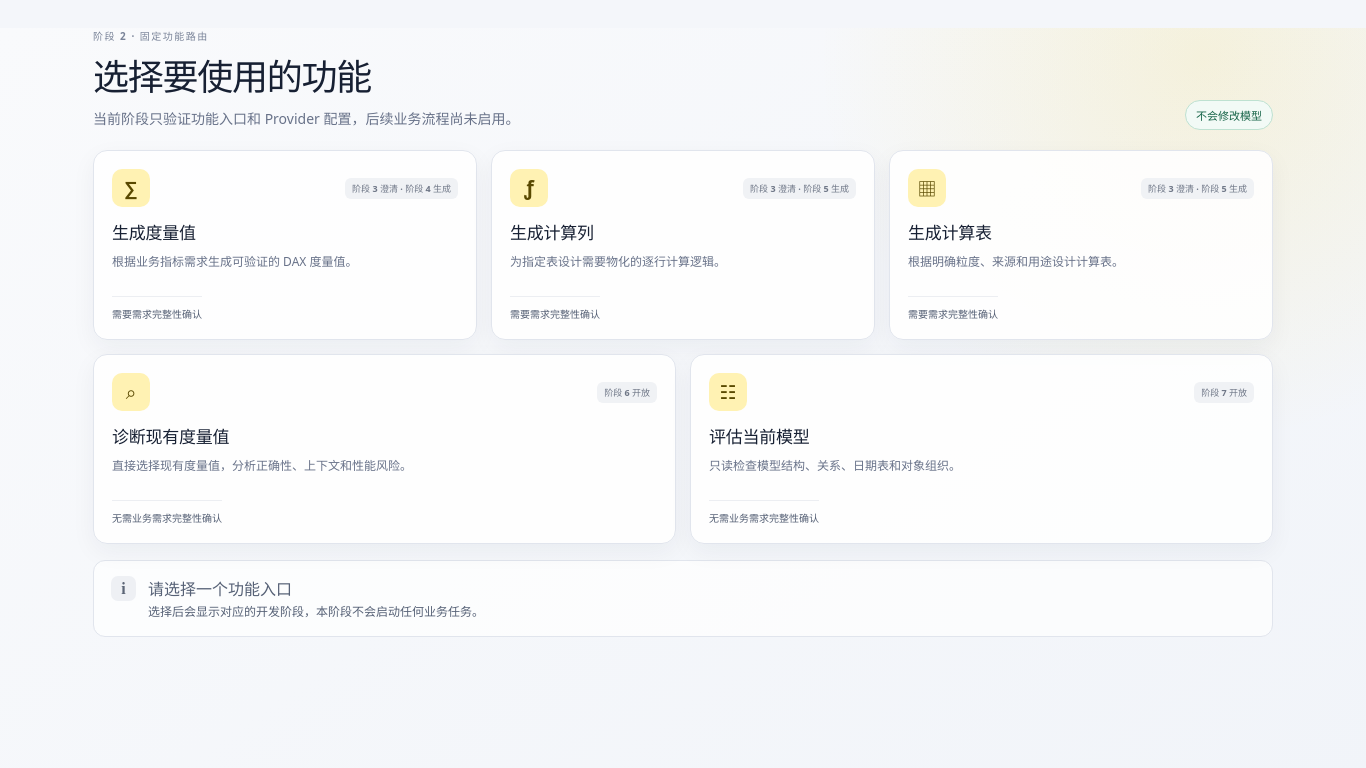
Test: FeatureHome 阶段 2 固定功能首页 › 选择“生成度量值”时仅显示对应阶段边界
The width and height of the screenshot is (1366, 768).
Click the button "∑ 阶段 3 澄清 · 阶段 4 生成 生成度量值 根据业务指标需求生成可验证的 DAX 度量值。 需要需求完整性确认" at (131, 188), box [93,150,477,340]
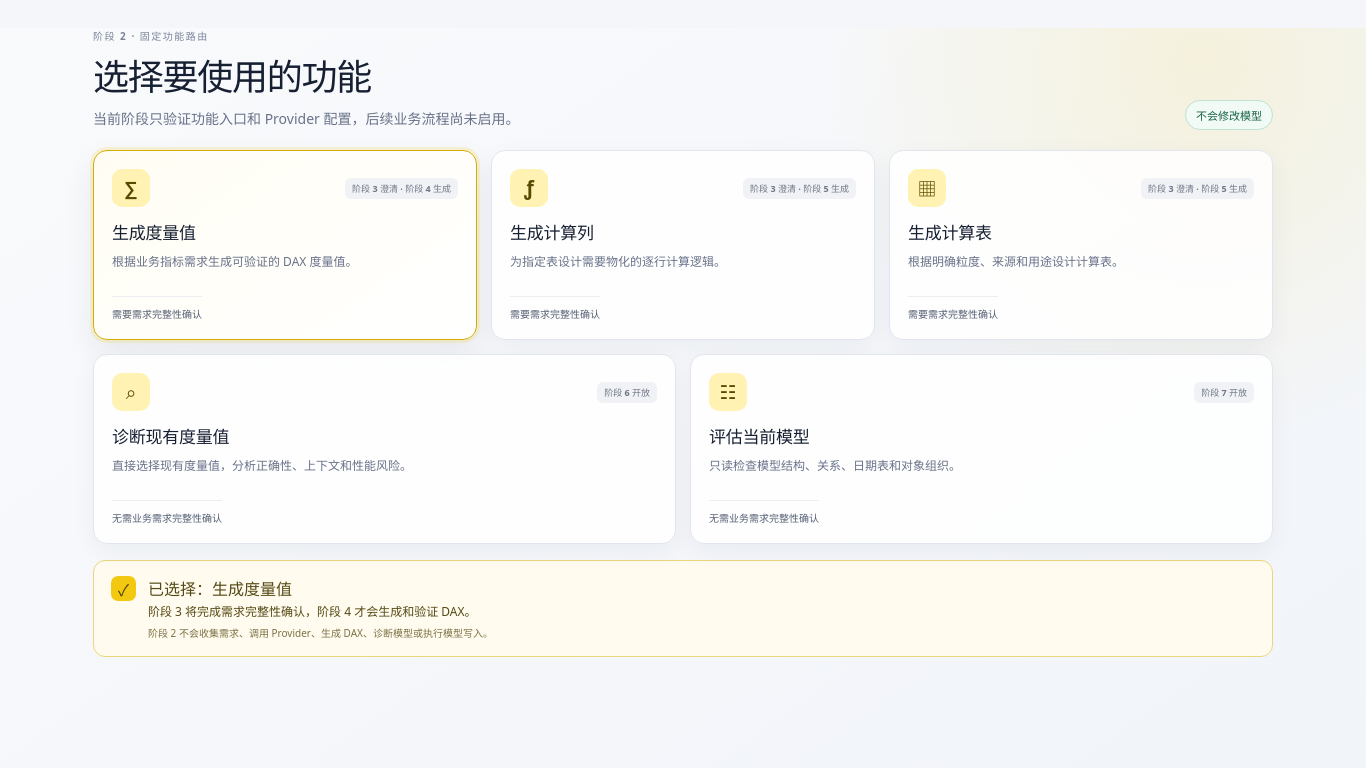
Expected: the message shows "阶段 4 才会生成和验证 DAX", [148,603,477,620]
Expected: the message shows "不会收集需求、调用 Provider、生成 DAX、诊断模型或执行模型写入", [148,626,493,640]
